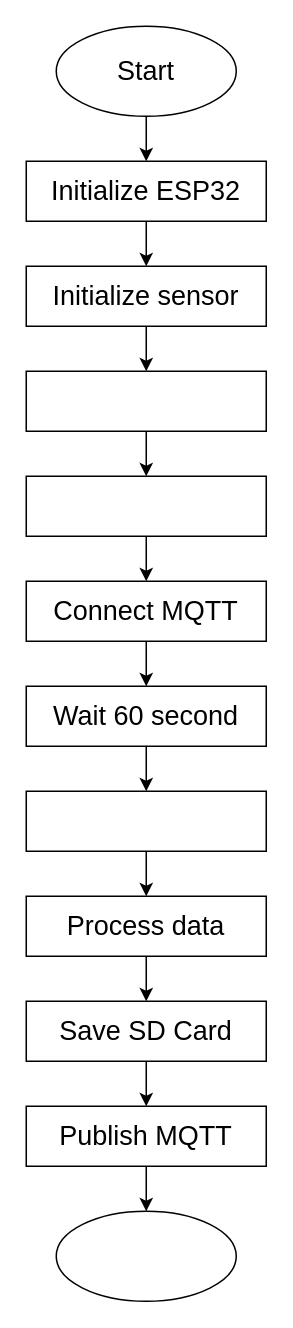
Image size: 293x1328. Some labels were removed from this diagram. Each missing label, with the centre of its shape:
Connect WiFi: point (145, 505)
Initialize SD Card: point (145, 400)
Read sensor: point (145, 820)
Repeat: point (145, 1255)
